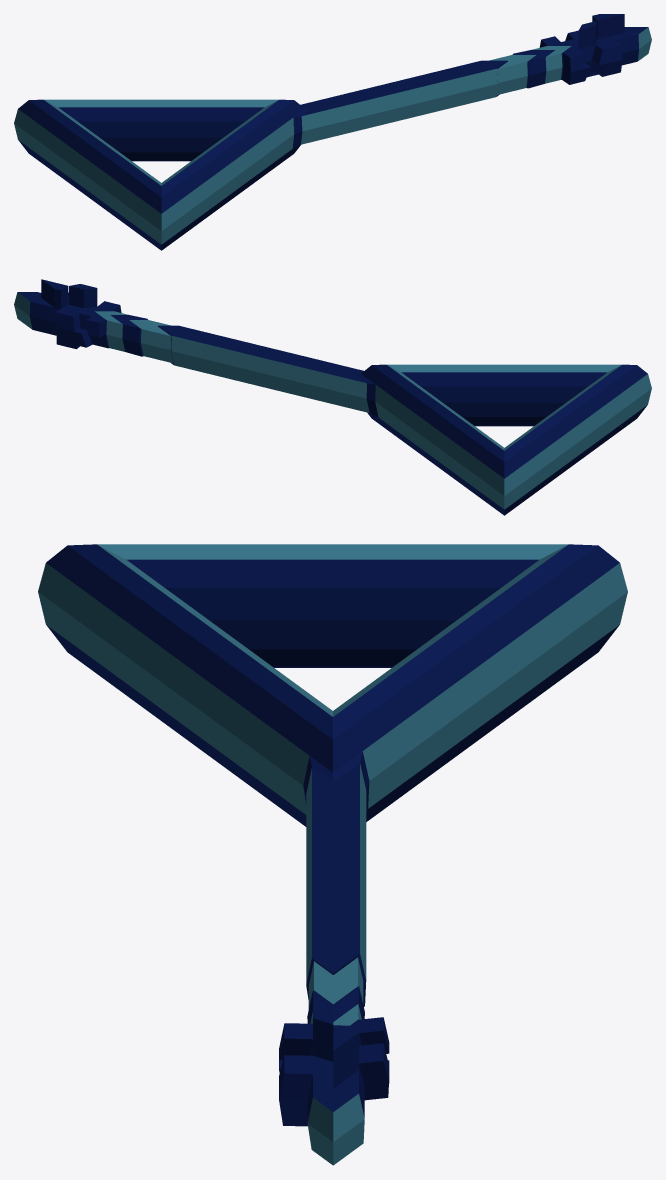
File: MazeKeyvvv3.glb
The picture shows the model from 3 angles, top to bottom: view 1: azimuth 30°, elevation 25°; view 2: azimuth 150°, elevation 25°; view 3: azimuth 270°, elevation 25°; orthographic projection. The views are drawn at different scales.
Visible parts, largest first — view 1: Torus; view 2: Torus; view 3: Torus.
Boxes of the visible parts, left/top/right/bottom form: Torus: left=14, top=14, right=651, bottom=250; Torus: left=14, top=279, right=651, bottom=515; Torus: left=38, top=544, right=627, bottom=1165.
Size of the model in its own units: 4.78 by 0.5097 by 2.17.
